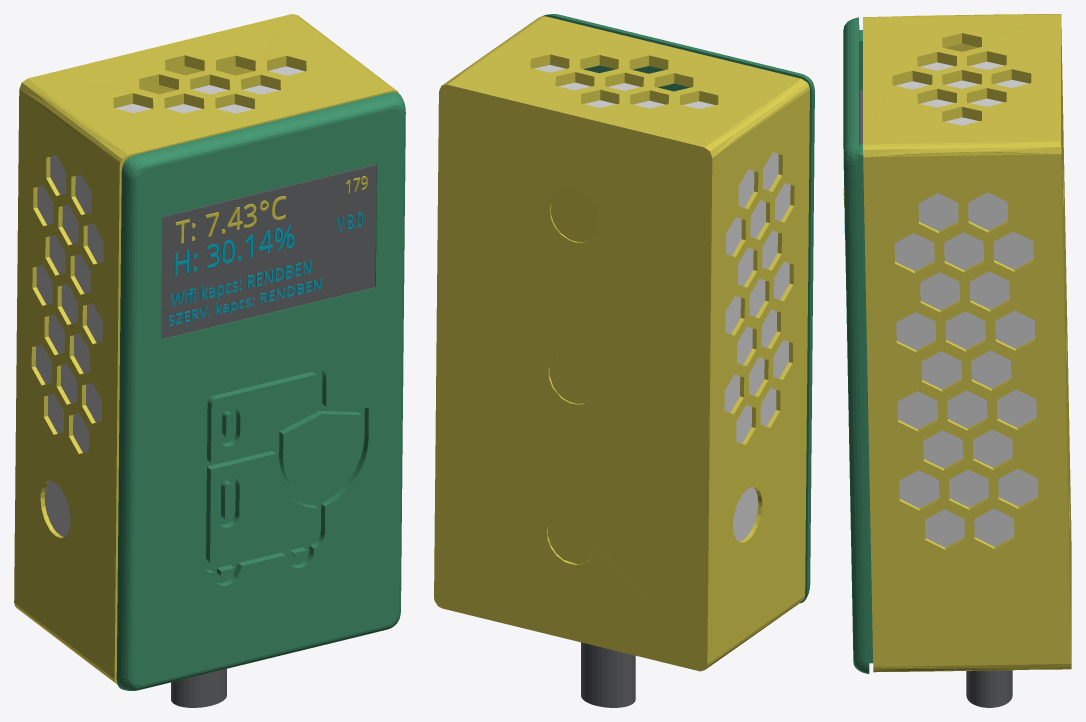
File: sarga_zold.glb
3 renders of one model, left to right at view 1: azimuth 30°, elevation 25°; view 2: azimuth 150°, elevation 25°; view 3: azimuth 270°, elevation 25°, orthographic. The views are drawn at different scales.
Parts seen in each view (by area): view 1: Mesh_Mesh_head_geo.001_lambert2SG.001; view 2: Mesh_Mesh_head_geo.001_lambert2SG.001; view 3: Mesh_Mesh_head_geo.001_lambert2SG.001.
Boxes of the visible parts, x1,y1,x2,y2 form: Mesh_Mesh_head_geo.001_lambert2SG.001: (14,14,405,707); Mesh_Mesh_head_geo.001_lambert2SG.001: (434,14,814,707); Mesh_Mesh_head_geo.001_lambert2SG.001: (843,14,1071,707).
Bounding box in the file's own units: 33 × 70.15 × 23.52.
